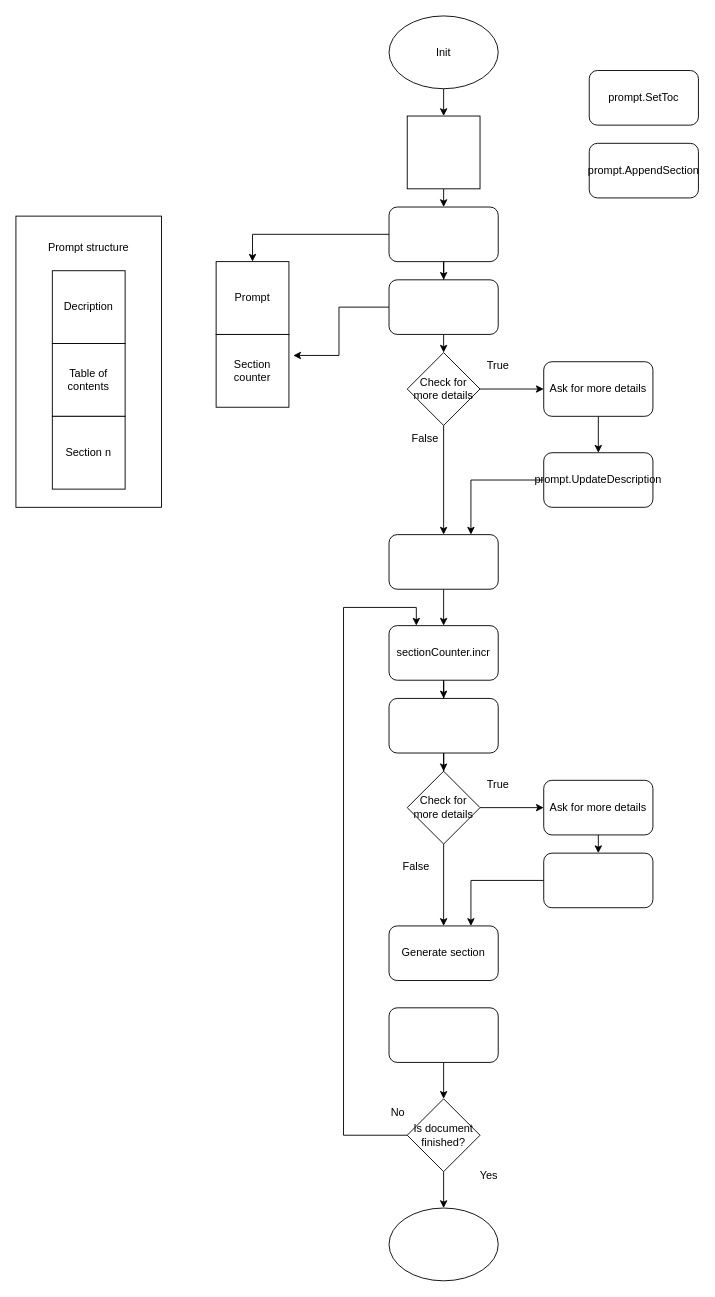
The diagram is 715 pixels wide and 1297 high, and some of its shapes have lost their labels. The centre of each missing label's shape, as x and y in pixels:
"Description" goes at point (443, 152).
"Get section <section counter> toc" goes at point (443, 725).
"Get table of contents" goes at point (443, 561).
"prompt.addSection" goes at point (443, 1034).
"prompt.SetDescription" goes at point (443, 234).
"Return" goes at point (443, 1244).
"section.setDescription" goes at point (598, 880).
"sectionCounter.reset" goes at point (443, 306).
